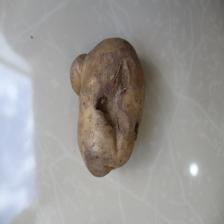Damaged potato: (69, 37, 147, 179)
